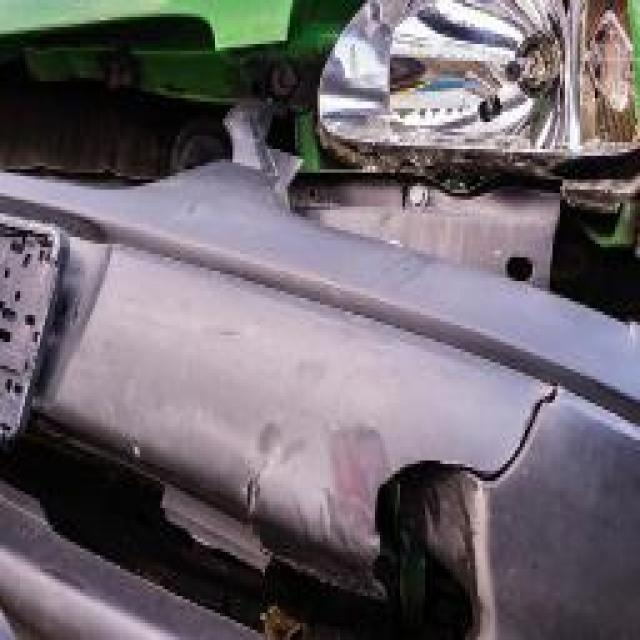Bumper: (25, 142, 640, 640)
Light: (312, 3, 640, 166)
